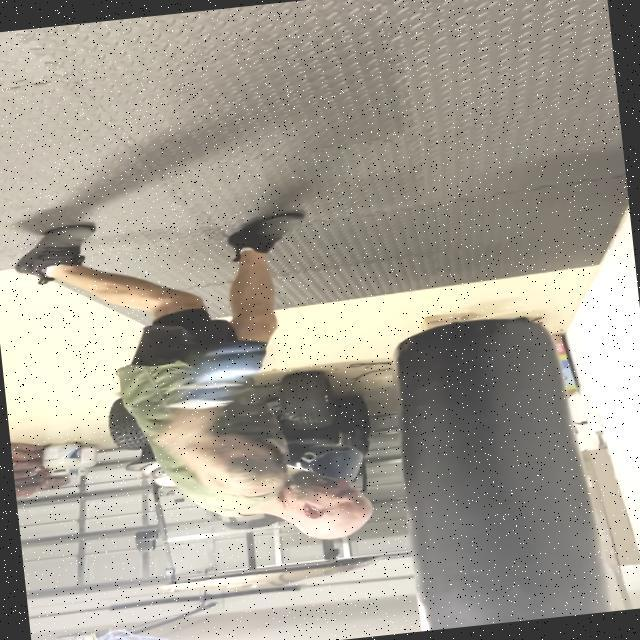bag: (383, 307, 602, 632)
uppercut: (151, 325, 376, 569)
